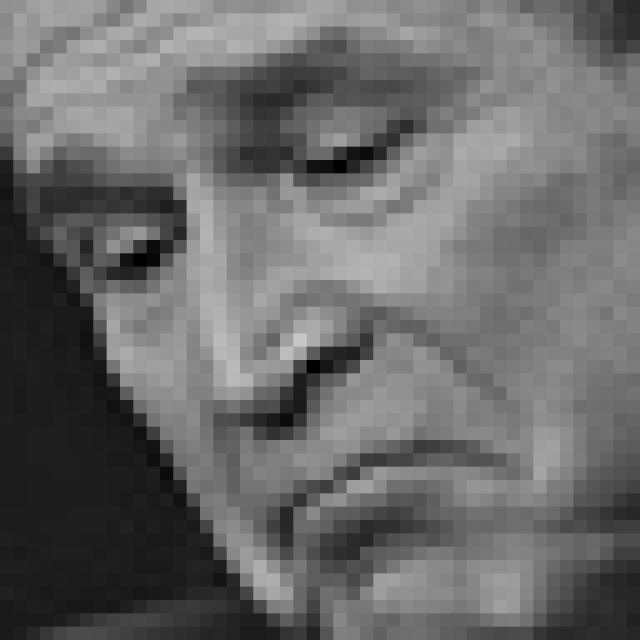sad: (39, 23, 512, 640)
